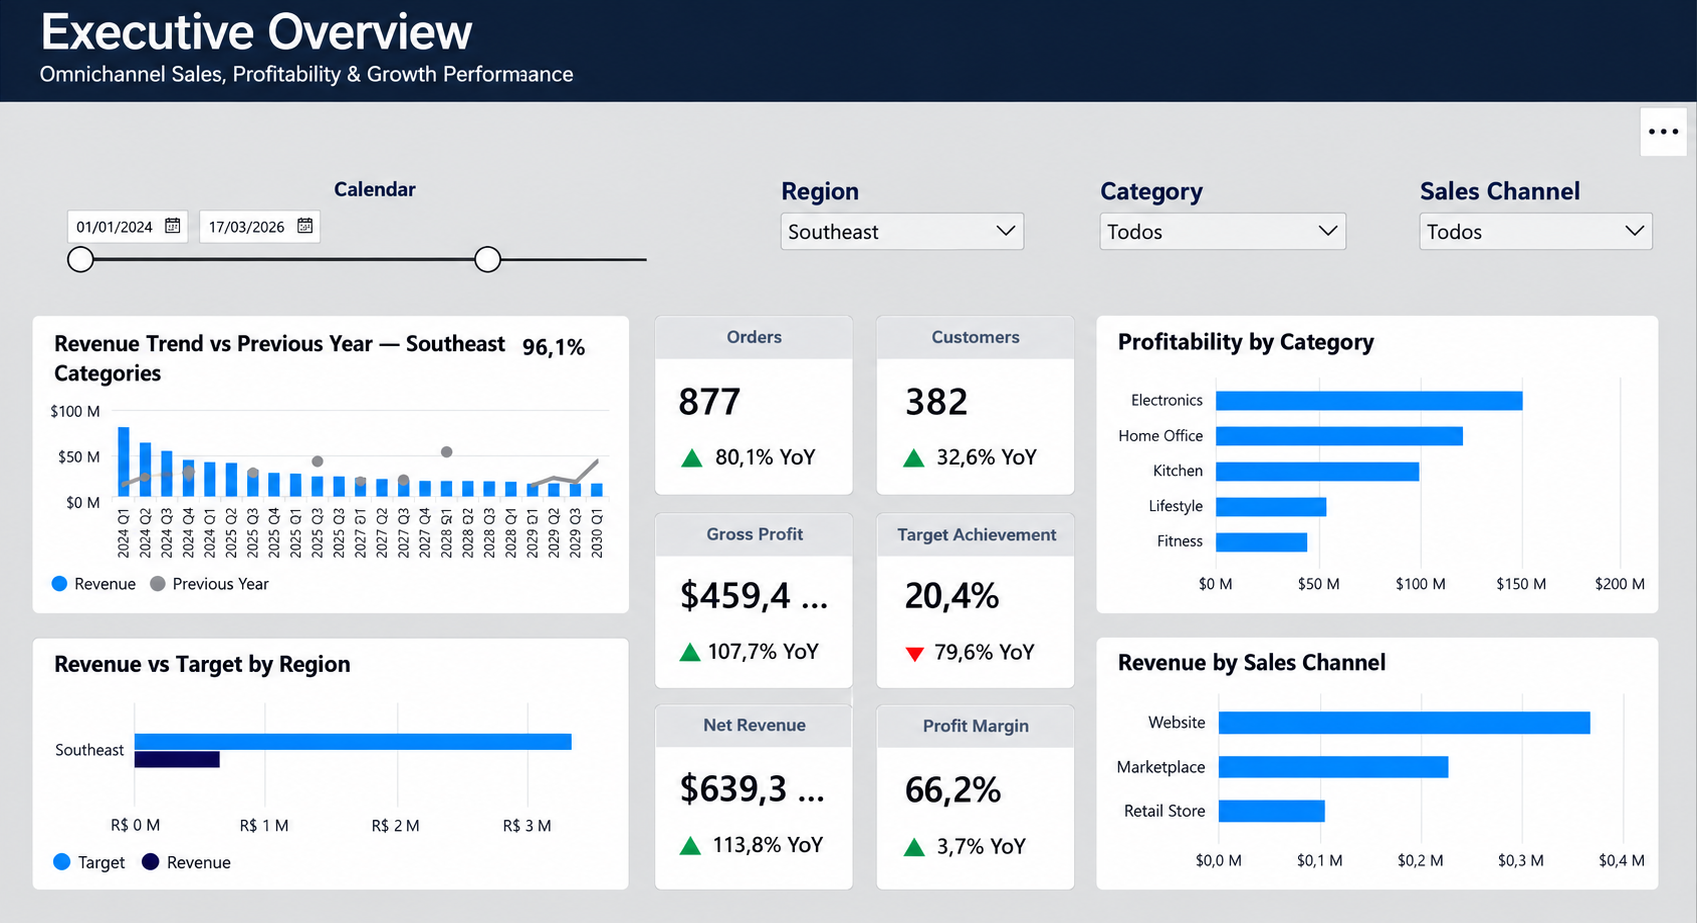

What the dashboard file says about the page in this screenshot:
{"tool":"powerbi","page":{"name":"Executive Overview","canvas":[1920,1080],"ordinal":0},"visuals":[{"type":"shape","box":[0,0,1920,128],"z":0},{"type":"lineClusteredColumnComboChart","fields":{"Category":["DimData.Year-Month"],"Y":["_Measures.Total Revenue"],"Y2":["_Measures.Revenue Previous Year"]},"box":[84,397.1,572.3,288],"z":0,"group":"g1"},{"type":"textbox","box":[48,16,480,64],"z":1000},{"type":"cardVisual","fields":{"Data":["_Measures.Revenue YoY %"]},"box":[521.9,416.1,115.6,24.2],"z":1000,"group":"g1"},{"type":"textbox","box":[48.2,80,531.8,57.3],"z":2000},{"type":"cardVisual","title":"Net Revenue","fields":{"Data":["_Measures.Net Revenue"]},"box":[748.4,825.3,184,192],"z":3000},{"type":"cardVisual","title":"Gross Profit","fields":{"Data":["_Measures.Gross Profit"]},"box":[746.9,607.3,184,192],"z":4000},{"type":"cardVisual","title":"Orders","fields":{"Data":["_Measures.Orders"]},"box":[746.9,396.3,184,192],"z":5000},{"type":"cardVisual","title":"Profit Margin","fields":{"Data":["_Measures.Profit Margin %"]},"box":[1036.4,825.3,184,192],"z":6000},{"type":"cardVisual","title":"Target Achievement","fields":{"Data":["_Measures.Revenue Target Achievement %"]},"box":[1036.4,609.3,184,192],"z":7000},{"type":"cardVisual","title":"Customers","fields":{"Data":["_Measures.Customers"]},"box":[1036.4,396.3,184,192],"z":8000},{"type":"group","id":"g1","title":"Grupo 1","box":[84,397.1,576,288],"z":9000},{"type":"clusteredBarChart","title":"Profitability by Category","fields":{"Category":["DimProducts.Category"],"Y":["_Measures.Gross Profit"]},"box":[1279.4,396.3,570,287],"z":10000},{"type":"clusteredBarChart","title":"Revenue vs Target by Region","fields":{"Category":["DimRegion.Region"],"Y":["_Measures.Revenue Target","_Measures.Total Revenue"]},"box":[84,733.1,570,287],"z":11000},{"type":"barChart","title":"Revenue by Sales Channel","fields":{"Category":["FactSales.Sales Channel"],"Y":["_Measures.Total Revenue"]},"box":[1277.4,732.3,570,287],"z":12000},{"type":"slicer","title":"Calendar","fields":{"Values":["DimData.Date"]},"box":[100,215.5,648,120],"z":13000},{"type":"slicer","fields":{"Values":["DimRegion.Region"]},"box":[893.2,215.8,264,96],"z":14000},{"type":"slicer","fields":{"Values":["DimProducts.Category"]},"box":[1253.2,215.8,264,96],"z":15000},{"type":"slicer","fields":{"Values":["FactSales.Sales Channel"]},"box":[1613.2,215.8,256,80],"z":16000}]}

Visuals, with their boxes on the page's 1920x1080 design canvas (x1, y1, x2, y2). These are canvas units, not pixel positions in the 1697x923 screenshot, which may show the page scaled, cropped or inside an application window:
shape: 0 0 1920 128
lineClusteredColumnComboChart - DimData.Year-Month x _Measures.Total Revenue: 84 397 656 685
textbox: 48 16 528 80
cardVisual - _Measures.Revenue YoY %: 522 416 638 440
textbox: 48 80 580 137
"Net Revenue" cardVisual: 748 825 932 1017
"Gross Profit" cardVisual: 747 607 931 799
"Orders" cardVisual: 747 396 931 588
"Profit Margin" cardVisual: 1036 825 1220 1017
"Target Achievement" cardVisual: 1036 609 1220 801
"Customers" cardVisual: 1036 396 1220 588
"Grupo 1" group: 84 397 660 685
"Profitability by Category" clusteredBarChart: 1279 396 1849 683
"Revenue vs Target by Region" clusteredBarChart: 84 733 654 1020
"Revenue by Sales Channel" barChart: 1277 732 1847 1019
"Calendar" slicer: 100 216 748 336
slicer - DimRegion.Region: 893 216 1157 312
slicer - DimProducts.Category: 1253 216 1517 312
slicer - FactSales.Sales Channel: 1613 216 1869 296
